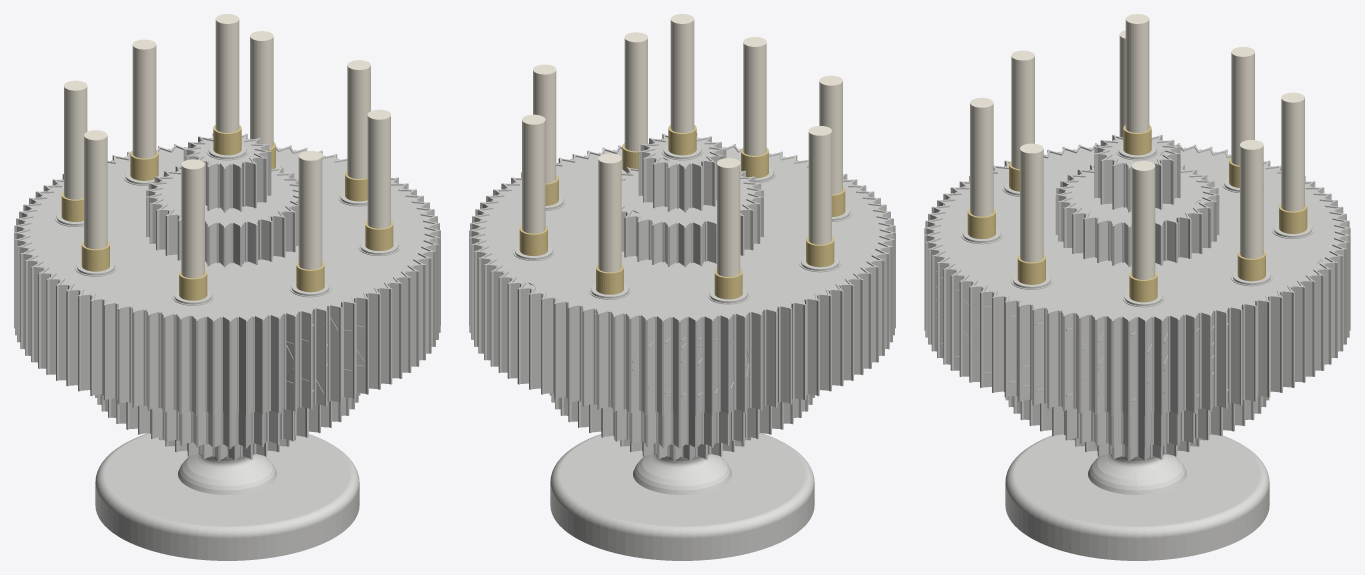
File: hanukkiah_white.glb
The picture shows the model from 3 angles, left to right: view 1: azimuth 30°, elevation 25°; view 2: azimuth 150°, elevation 25°; view 3: azimuth 270°, elevation 25°; orthographic projection.
Visible parts, largest first — view 1: drum3_R3__petg_white, plinth_stem__petg_white, drum4_R4__petg_white, drum2_R2__petg_white, drum5_R5_dome__petg_white, candle_5, candle_shamash, candle_1, candle_8, candle_2, candle_7, candle_4 (+11 smaller); view 2: drum3_R3__petg_white, plinth_stem__petg_white, drum4_R4__petg_white, drum2_R2__petg_white, drum5_R5_dome__petg_white, candle_shamash, candle_5, candle_4, candle_1, candle_6, candle_7, candle_2 (+9 smaller); view 3: drum3_R3__petg_white, plinth_stem__petg_white, drum4_R4__petg_white, drum2_R2__petg_white, drum5_R5_dome__petg_white, candle_shamash, candle_3, candle_2, candle_5, candle_1, candle_4, candle_8 (+9 smaller).
Part boxes in pixels (<box>): drum3_R3__petg_white: <box>14,144,440,416</box>; plinth_stem__petg_white: <box>95,433,359,560</box>; drum4_R4__petg_white: <box>146,166,298,267</box>; drum2_R2__petg_white: <box>95,393,360,448</box>; drum5_R5_dome__petg_white: <box>183,133,271,212</box>; candle_5: <box>132,39,156,158</box>; candle_shamash: <box>215,14,239,132</box>; candle_1: <box>298,151,322,269</box>; candle_8: <box>181,159,204,278</box>; candle_2: <box>367,109,390,228</box>; candle_7: <box>84,130,107,249</box>; candle_4: <box>250,31,273,148</box>; drum3_R3__petg_white: <box>469,144,895,416</box>; plinth_stem__petg_white: <box>550,433,814,560</box>; drum4_R4__petg_white: <box>621,167,763,267</box>; drum2_R2__petg_white: <box>549,393,814,448</box>; drum5_R5_dome__petg_white: <box>638,133,726,212</box>; candle_shamash: <box>670,14,694,132</box>; candle_5: <box>598,153,621,272</box>; candle_4: <box>522,114,545,233</box>; candle_1: <box>743,37,766,155</box>; candle_6: <box>717,158,740,276</box>; candle_7: <box>808,126,831,244</box>; candle_2: <box>624,32,647,151</box>; drum3_R3__petg_white: <box>924,143,1350,416</box>; plinth_stem__petg_white: <box>1005,434,1269,560</box>; drum4_R4__petg_white: <box>1055,164,1219,267</box>; drum2_R2__petg_white: <box>1005,395,1269,448</box>; drum5_R5_dome__petg_white: <box>1094,134,1180,212</box>; candle_shamash: <box>1125,14,1149,132</box>; candle_3: <box>1131,161,1155,279</box>; candle_2: <box>1020,143,1043,262</box>; candle_5: <box>1281,92,1304,211</box>; candle_1: <box>970,97,993,216</box>; candle_4: <box>1240,140,1263,258</box>; candle_8: <box>1011,50,1034,169</box>.
Bounding box in the file's own units: 0.1809 × 0.2274 × 0.1809.
